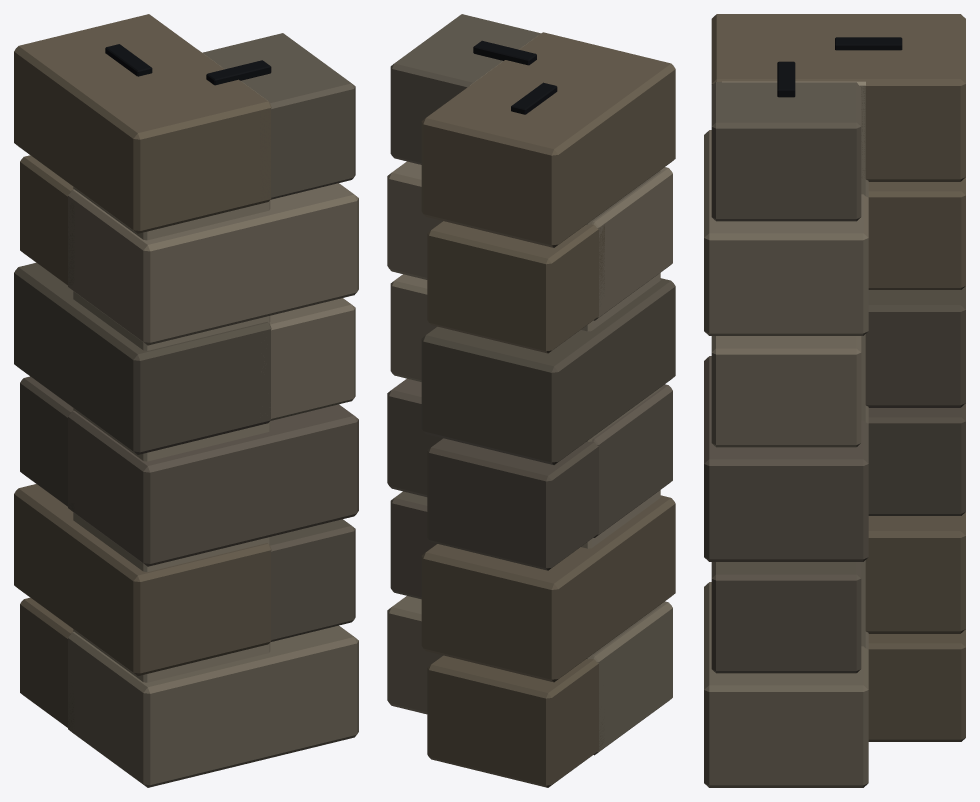
The model's file is mod_ashlar_quoin_corner.glb.
3 views of the same model, side by side, from view 1: azimuth 30°, elevation 25°; view 2: azimuth 150°, elevation 25°; view 3: azimuth 270°, elevation 25° (orthographic). The views are drawn at different scales.
Parts seen in each view (by area): view 1: Mod_Ashlar_Quoin_Corner; view 2: Mod_Ashlar_Quoin_Corner; view 3: Mod_Ashlar_Quoin_Corner.
Part boxes in pixels (left/top/right/bottom): Mod_Ashlar_Quoin_Corner: left=14, top=14, right=358, bottom=787; Mod_Ashlar_Quoin_Corner: left=387, top=14, right=675, bottom=787; Mod_Ashlar_Quoin_Corner: left=704, top=14, right=965, bottom=787.
Bounding box in the file's own units: 0.7 × 1.99 × 0.7.
